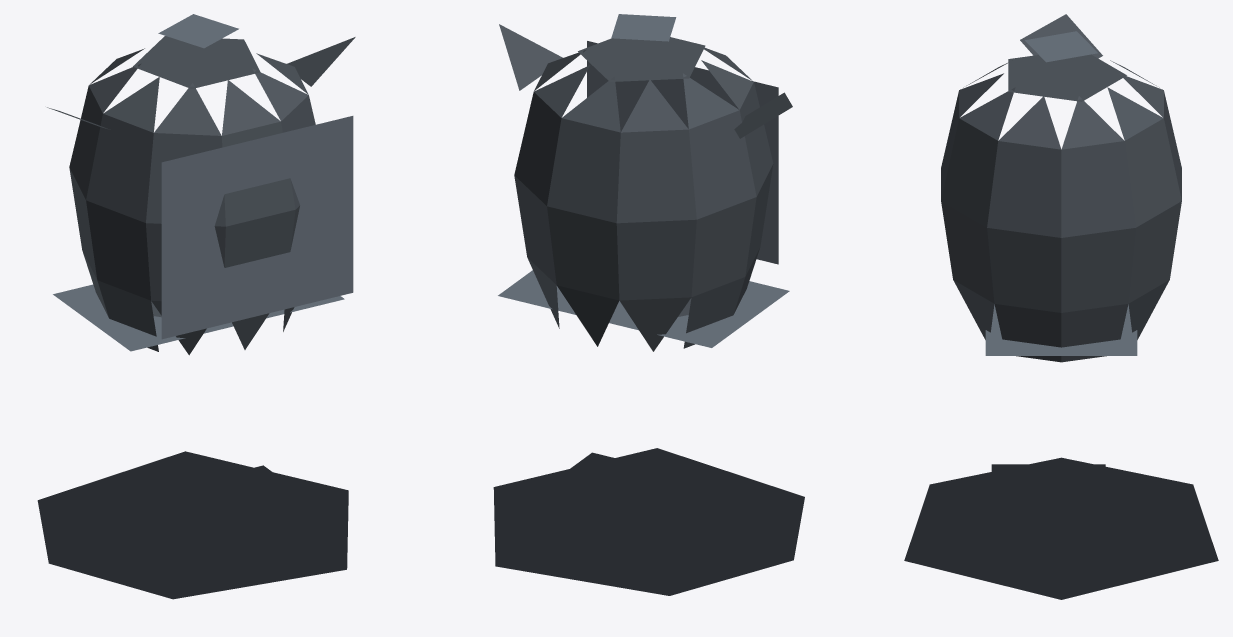
File: mesh-armor.lod.glb
3 renders of one model, left to right at view 1: azimuth 30°, elevation 25°; view 2: azimuth 150°, elevation 25°; view 3: azimuth 270°, elevation 25°, orthographic. The views are drawn at different scales.
Visible parts, largest first — view 1: m; view 2: m; view 3: m.
Part boxes in pixels (<box>): m: <box>37,14,355,599</box>; m: <box>493,14,804,595</box>; m: <box>904,14,1218,599</box>.
Bounding box in the file's own units: 0.3318 × 0.4248 × 0.2398.
